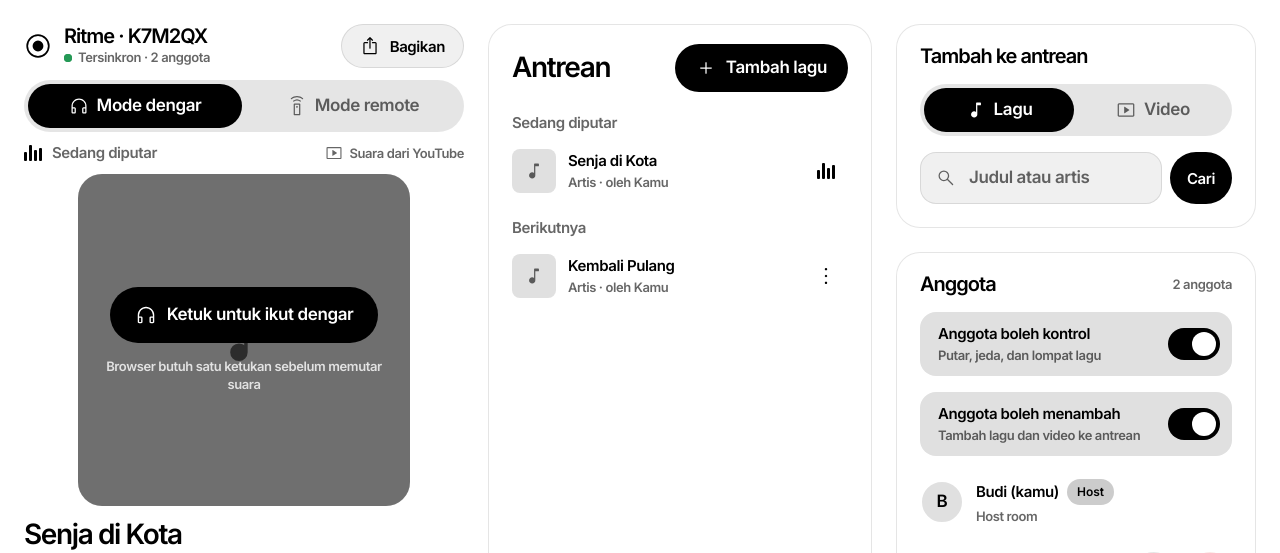
RoomScreen on desktop › "Tambah lagu" goes back to the Lagu tab before focusing the song search
Later steps or results of the test are not shown.
Click the tab "Video": click(1153, 110) [1078,88,1228,132]
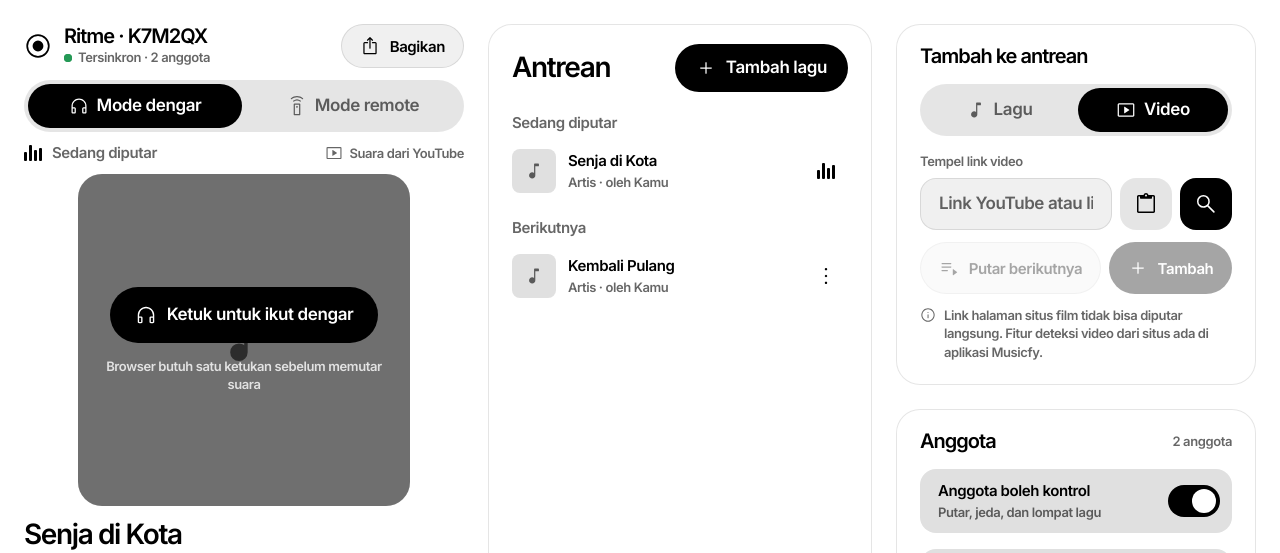
Expected: the tab "Video" is selected, [1078,88,1228,132]
Click the button "Tambah lagu": click(761, 68) [675,44,848,92]
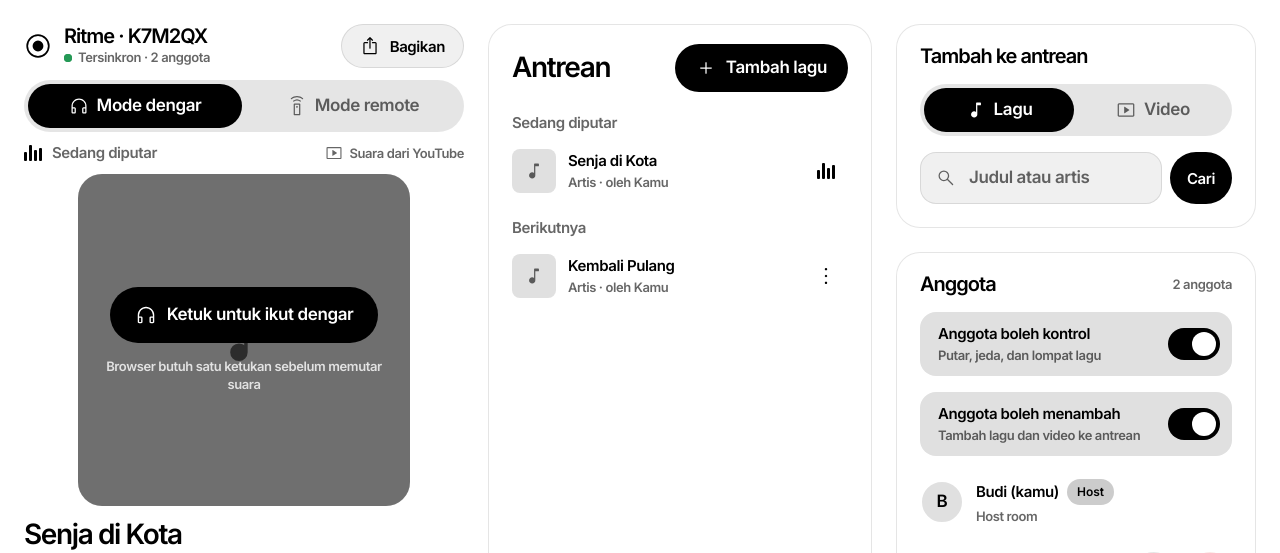
Expected: the tab "Lagu" is selected, [924,88,1074,132]
